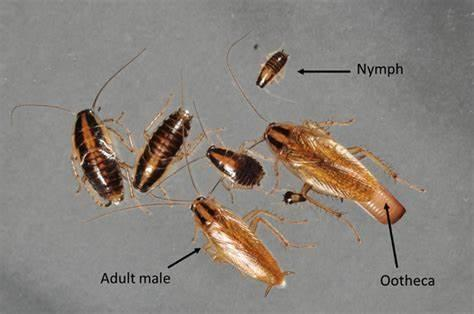cockroach: (263, 117, 378, 207), (190, 194, 288, 294), (65, 102, 127, 208), (131, 104, 194, 194), (205, 141, 265, 190), (253, 48, 290, 90), (282, 190, 308, 206)
